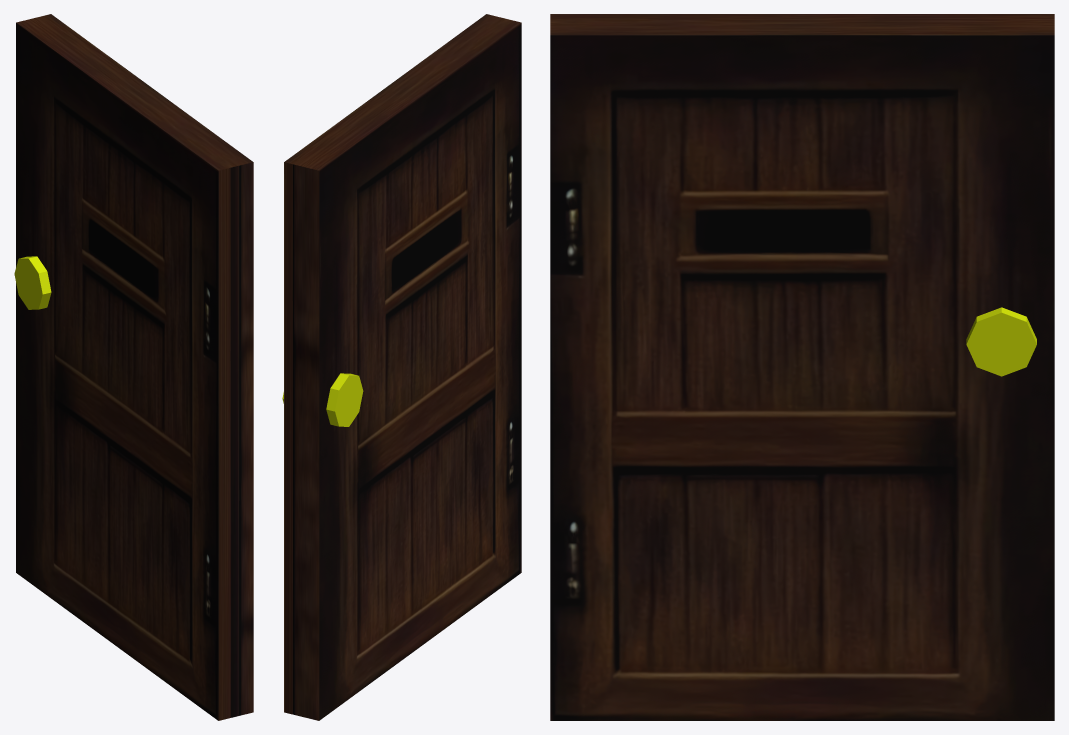
The model's file is wood_door.glb.
The picture shows the model from 3 angles, left to right: view 1: azimuth 30°, elevation 25°; view 2: azimuth 150°, elevation 25°; view 3: azimuth 270°, elevation 25°; orthographic projection. The views are drawn at different scales.
Visible parts, largest first — view 1: Cylinder; view 2: Cylinder; view 3: Cylinder.
Part boxes in pixels (left/top/right/bottom): Cylinder: left=14, top=14, right=253, bottom=720; Cylinder: left=282, top=14, right=521, bottom=720; Cylinder: left=550, top=14, right=1054, bottom=720.
Size of the model in its own units: 0.3 by 3 by 2.
2 materials, 1 textured.
